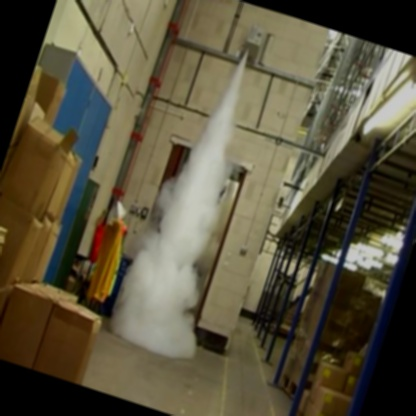smoke: (100, 30, 277, 358)
